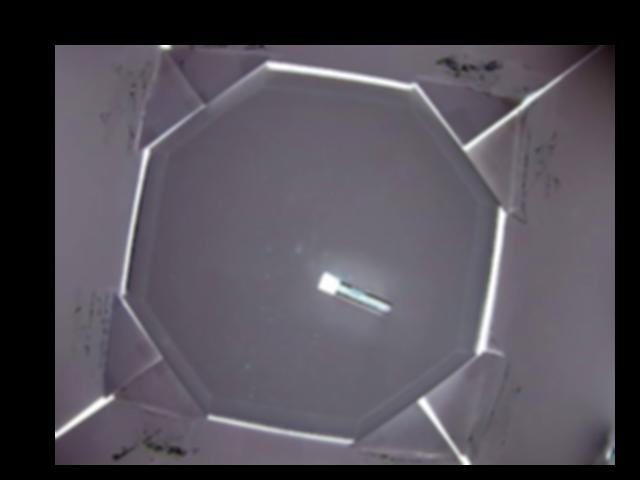Battery: (314, 270, 393, 316)
